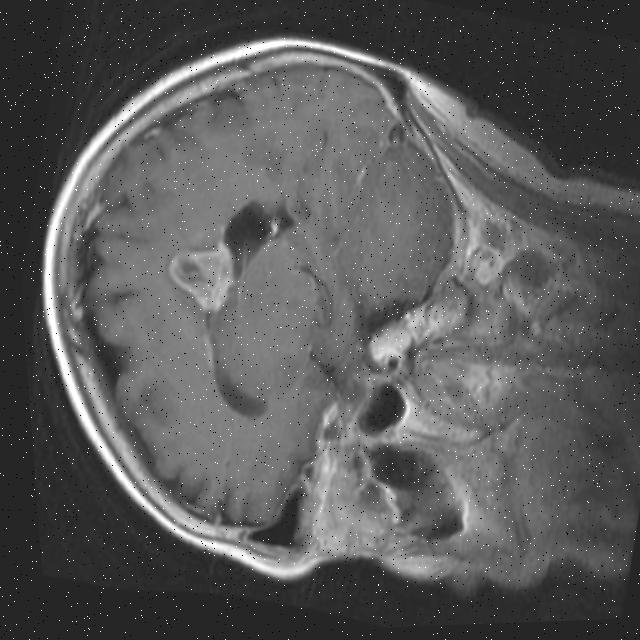Glioma: (155, 225, 244, 317)
